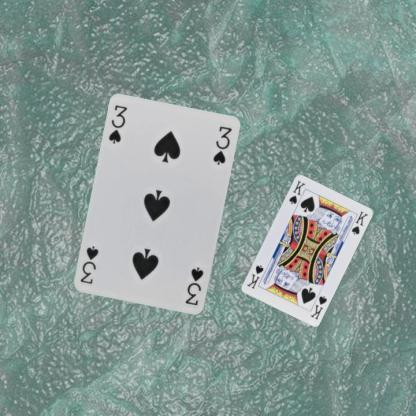3s: (106, 102, 129, 146), (183, 264, 205, 306)
Ks: (286, 177, 306, 205), (308, 293, 328, 321)
